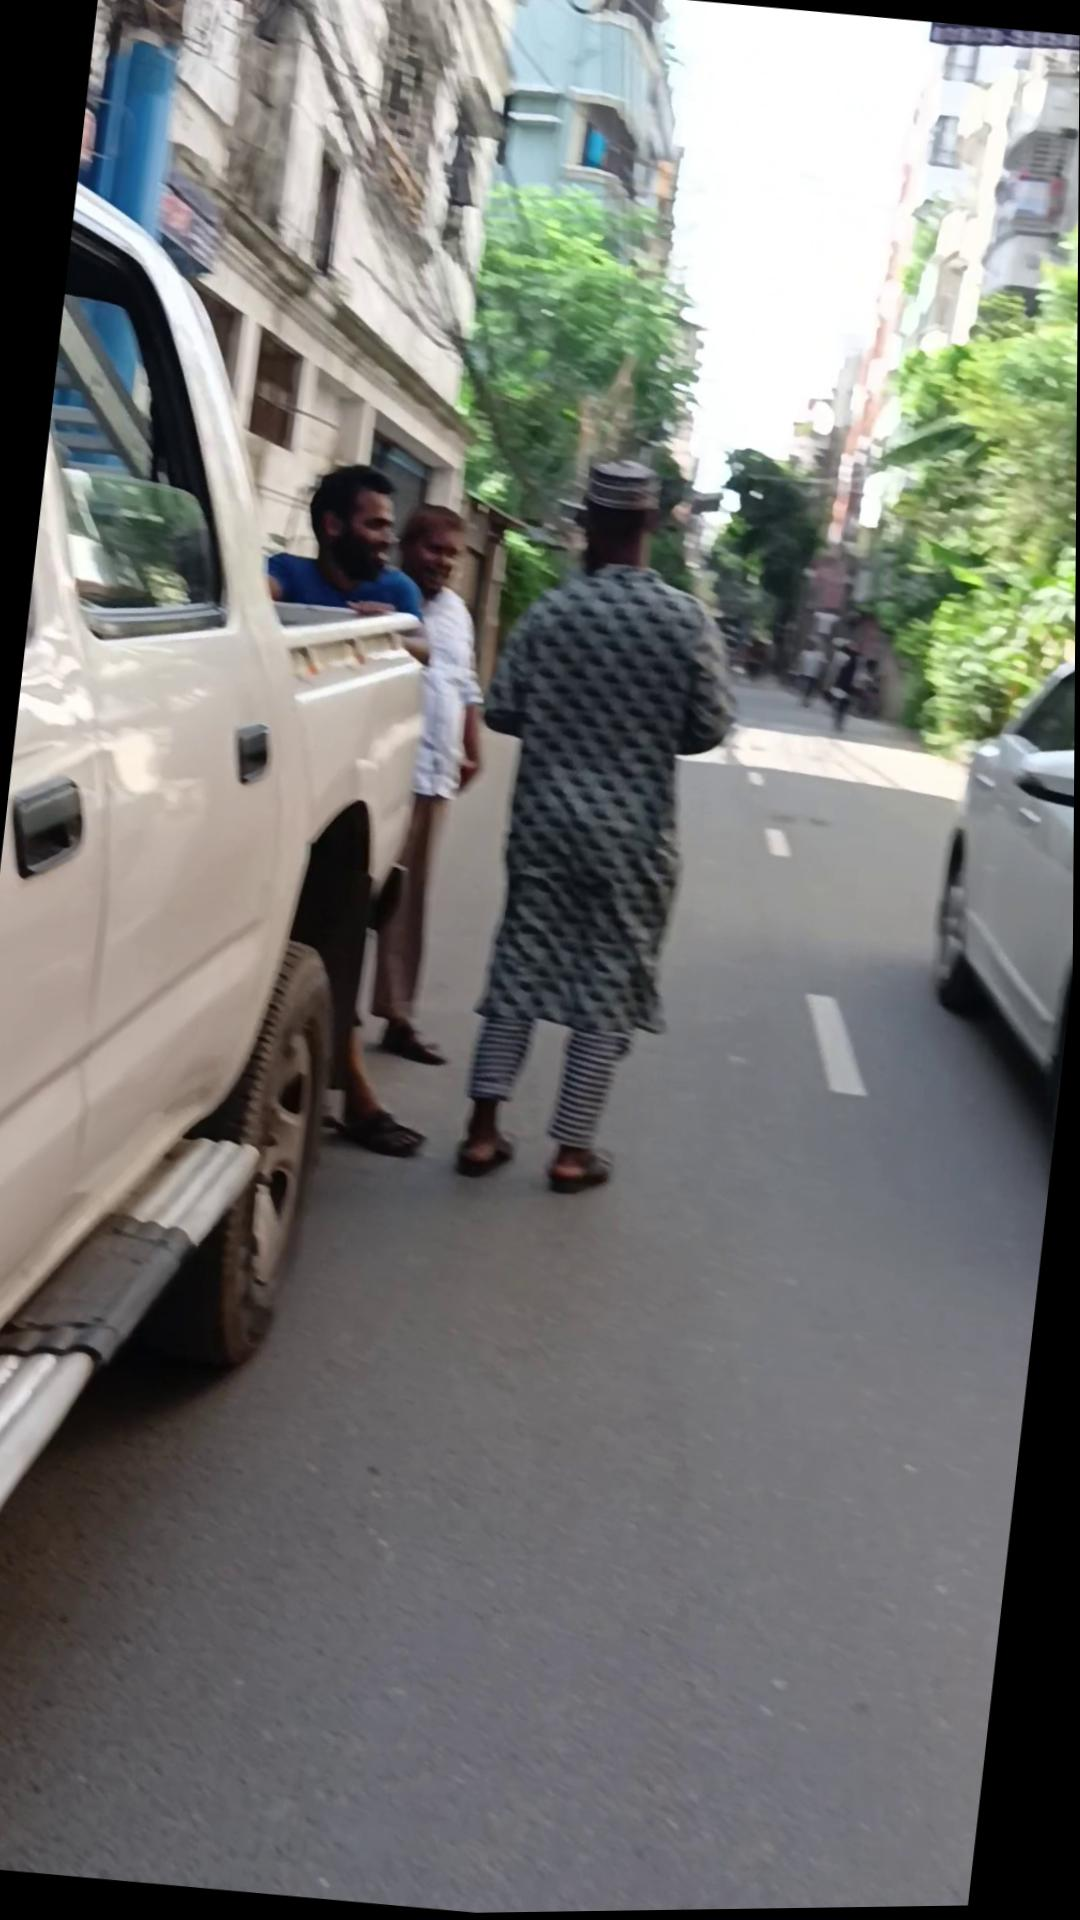Bollard: (0, 157, 487, 1654), (916, 629, 1076, 1097)
Crosswalk: (265, 595, 425, 688)
Curb: (430, 447, 766, 1209), (340, 498, 512, 1071)
Dog: (57, 24, 189, 475)
Light-pole: (836, 204, 1079, 777)
Obstacle: (0, 0, 589, 1093)
